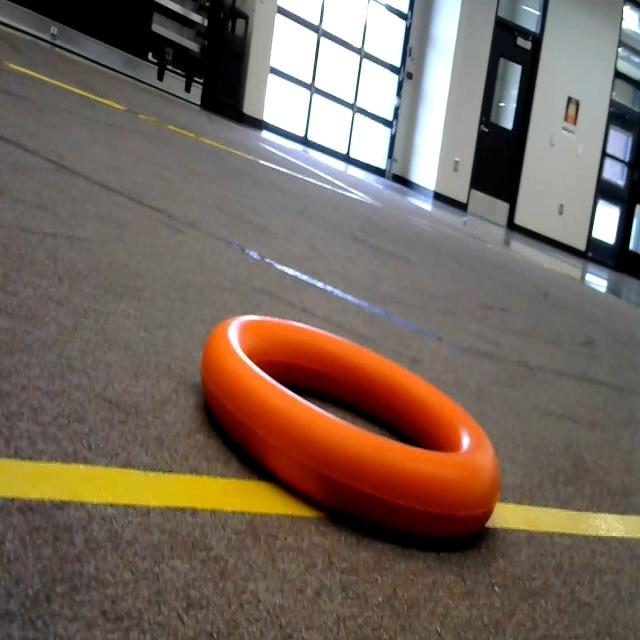note: (186, 271, 521, 555)
